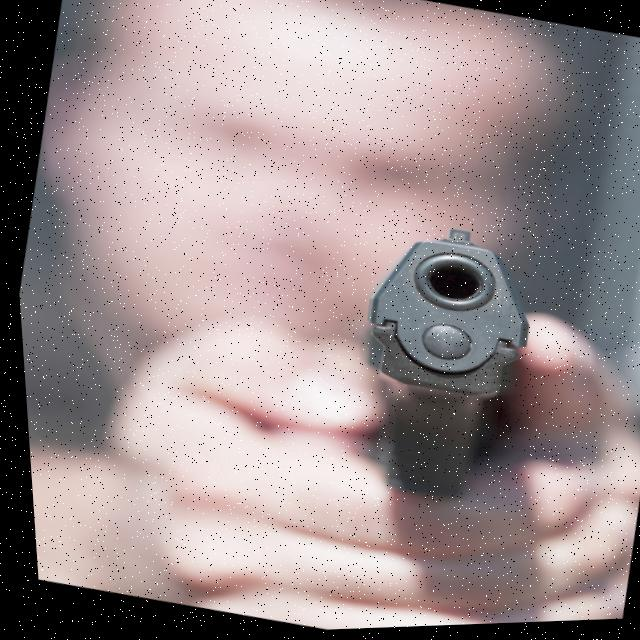pistol: (319, 211, 554, 516)
